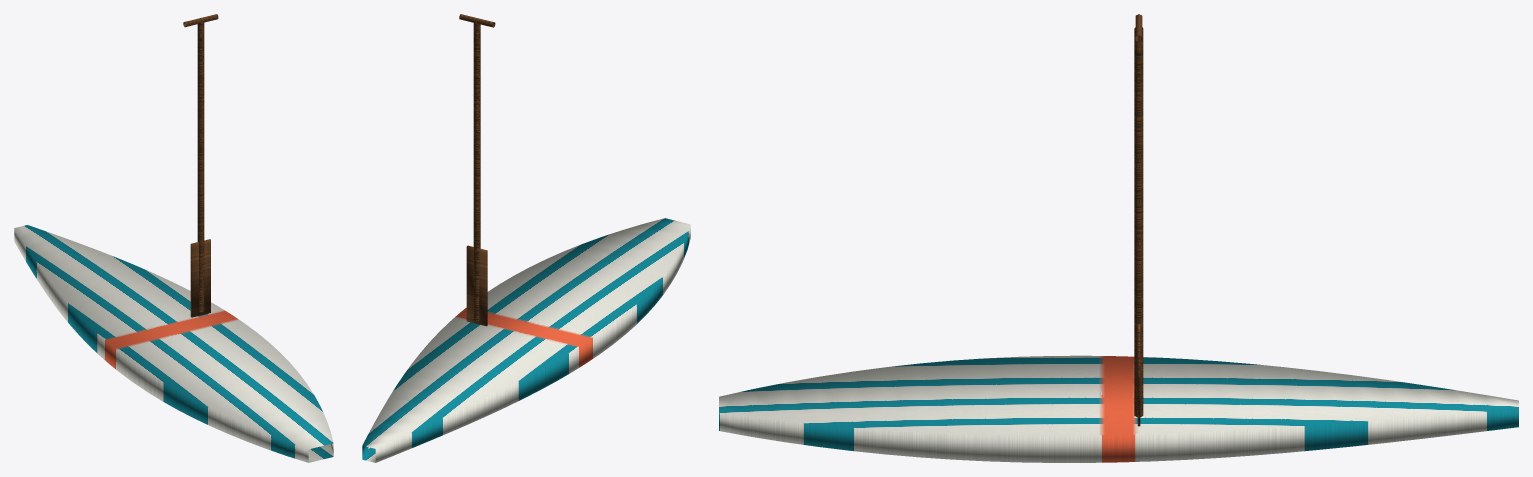
The model's file is tabla_remo.obj.
3 renders of one model, left to right at view 1: azimuth 30°, elevation 25°; view 2: azimuth 150°, elevation 25°; view 3: azimuth 270°, elevation 25°, orthographic. The views are drawn at different scales.
Parts seen in each view (by area): view 1: tabla_remo; view 2: tabla_remo; view 3: tabla_remo.
Part boxes in pixels (box(x1,y1,x2,y2)): tabla_remo: box(14, 14, 333, 462); tabla_remo: box(362, 14, 690, 462); tabla_remo: box(719, 14, 1518, 462).
Size of the model in its own units: 0.7587 by 1.87 by 3.2.
Materials: 2 (2 with a texture image).
